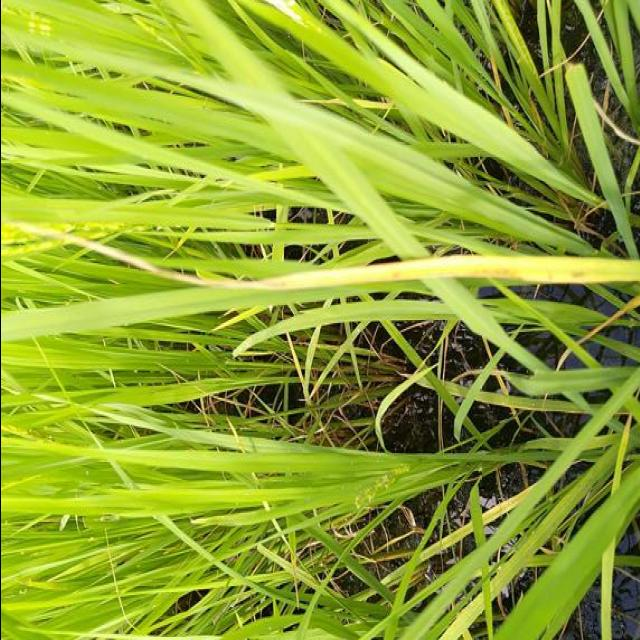Leaf Blight: (11, 224, 640, 290)
